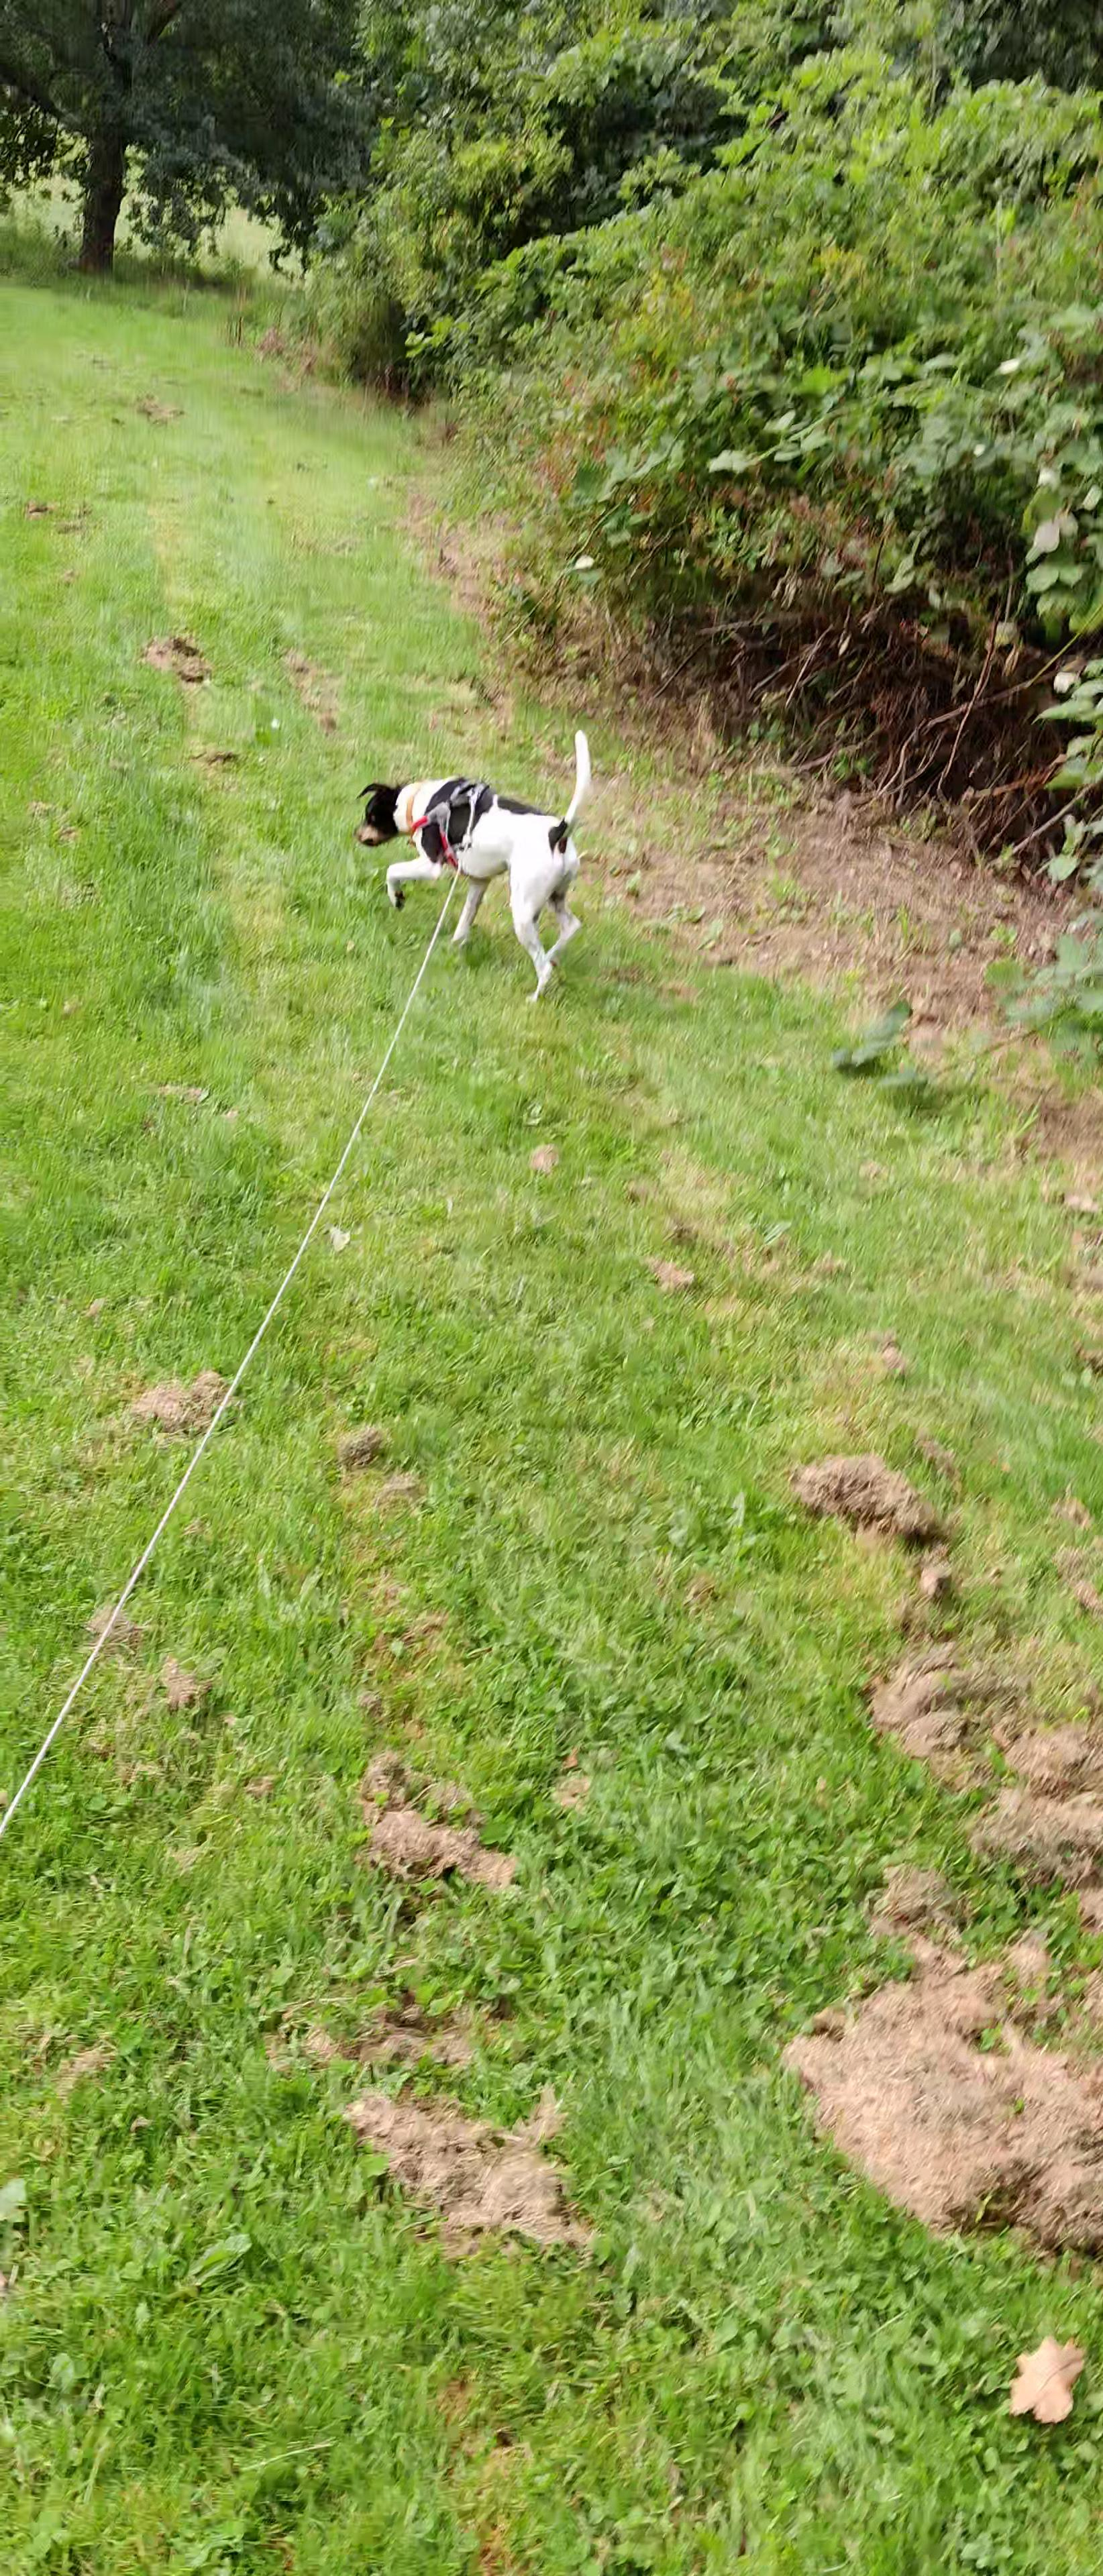Dog: (337, 710, 602, 1012)
